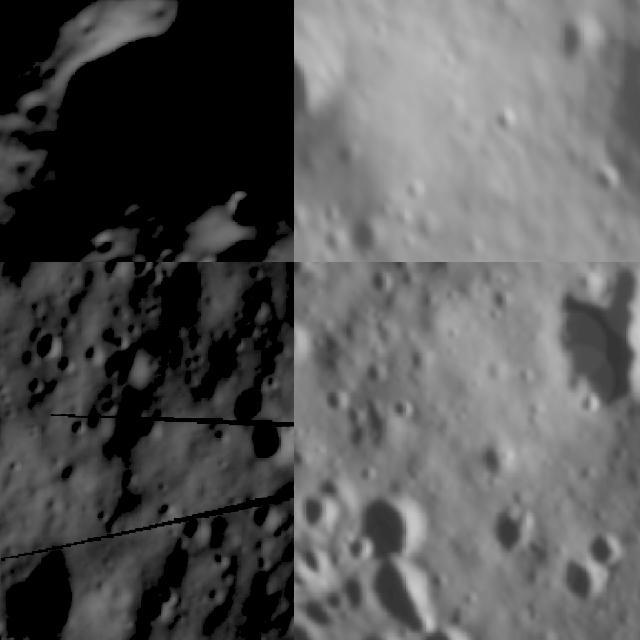crater: (501, 262, 640, 439), (323, 458, 444, 582), (582, 30, 640, 193), (356, 543, 453, 640), (294, 24, 349, 140), (469, 486, 547, 565), (540, 544, 612, 622), (457, 420, 528, 491), (573, 511, 639, 580), (215, 175, 279, 240), (396, 611, 488, 640), (546, 12, 586, 67), (480, 96, 521, 142), (248, 420, 290, 463), (184, 237, 252, 262), (344, 216, 381, 260), (294, 308, 316, 377), (582, 159, 619, 198), (25, 335, 70, 366), (91, 227, 125, 261)
